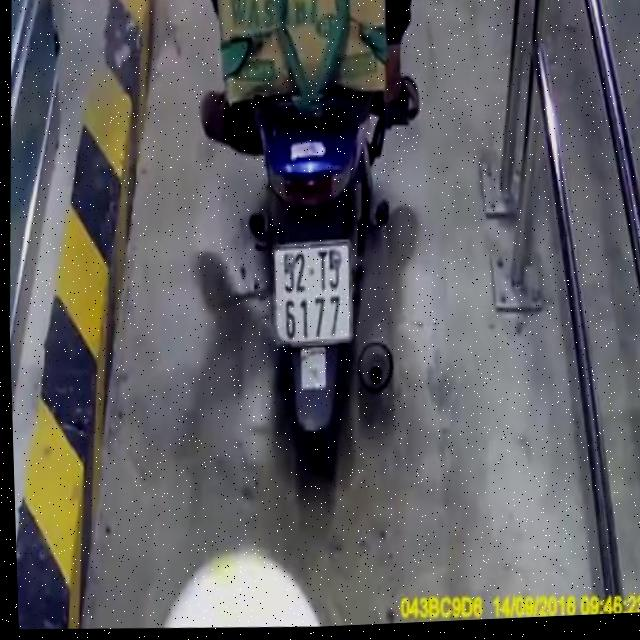motorcycle: (231, 93, 415, 492)
plate: (265, 236, 360, 347)
